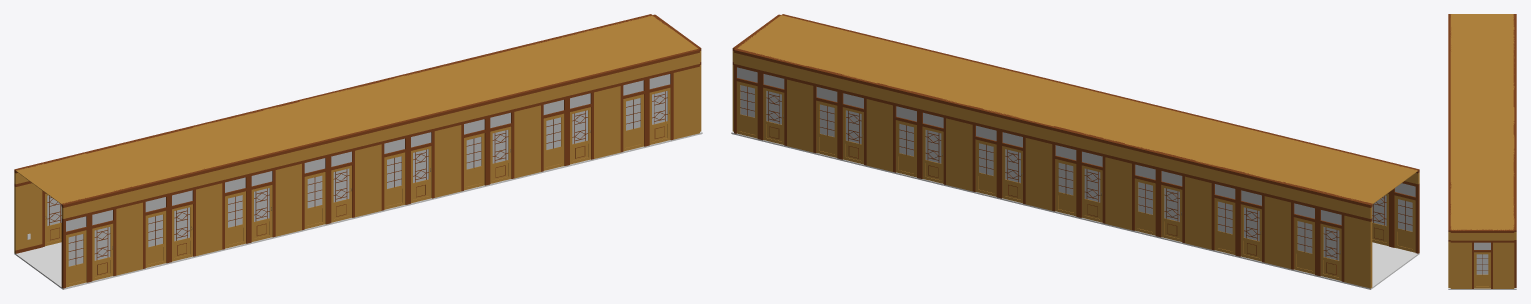
The model's file is Hallway.glb.
The picture shows the model from 3 angles, left to right: view 1: azimuth 30°, elevation 25°; view 2: azimuth 150°, elevation 25°; view 3: azimuth 270°, elevation 25°; orthographic projection. The views are drawn at different scales.
Visible parts, largest first — view 1: Ceiling, Ceiling.002, Ceiling.003, Ceiling.005, Ceiling.001, Ceiling.004, Floor, Wall_1X_Window.017, Wall_1X.013, Wall_1X_Door.016, Wall_1X_Window.013, Wall_1X.001 (+27 smaller); view 2: Ceiling.003, Ceiling, Ceiling.004, Ceiling.001, Ceiling.002, Ceiling.005, Floor, Wall_1X.001, Wall_1X.005, Wall_1X_Door.001, Wall_1X_Window.005, Wall_1X_Window.017 (+45 smaller); view 3: Ceiling.003, Ceiling.002, Ceiling, Ceiling.005, Ceiling.001, Ceiling.004, Wall_1X.009, Wall_1X.018, Wall_1X_Window.009, Wall_1X.070, Wall_1X.068, Wall_1X.069 (+4 smaller).
Part boxes in pixels (<box>): Ceiling: <box>16,144,167,203</box>; Ceiling.002: <box>229,93,379,152</box>; Ceiling.003: <box>334,67,485,126</box>; Ceiling.005: <box>547,15,698,74</box>; Ceiling.001: <box>122,119,273,177</box>; Ceiling.004: <box>441,41,591,100</box>; Floor: <box>14,131,702,289</box>; Wall_1X_Window.017: <box>61,213,89,288</box>; Wall_1X.013: <box>434,122,461,197</box>; Wall_1X_Door.016: <box>89,206,116,281</box>; Wall_1X_Window.013: <box>381,135,408,210</box>; Wall_1X.001: <box>14,181,42,253</box>; Ceiling.003: <box>948,67,1099,126</box>; Ceiling: <box>1266,144,1417,204</box>; Ceiling.004: <box>842,41,992,100</box>; Ceiling.001: <box>1161,119,1311,177</box>; Ceiling.002: <box>1055,93,1205,151</box>; Ceiling.005: <box>737,15,886,73</box>; Floor: <box>731,131,1419,289</box>; Wall_1X.001: <box>1344,213,1372,288</box>; Wall_1X.005: <box>1025,135,1052,210</box>; Wall_1X_Door.001: <box>1317,206,1344,281</box>; Wall_1X_Window.005: <box>972,122,999,197</box>; Wall_1X_Window.017: <box>1391,181,1419,253</box>; Ceiling.003: <box>1450,122,1514,157</box>; Ceiling.002: <box>1450,86,1514,121</box>; Ceiling: <box>1450,14,1514,49</box>; Ceiling.005: <box>1450,194,1514,230</box>; Ceiling.001: <box>1450,50,1514,85</box>; Ceiling.004: <box>1450,158,1514,193</box>; Wall_1X.009: <box>1493,240,1514,288</box>; Wall_1X.018: <box>1450,240,1471,288</box>; Wall_1X_Window.009: <box>1472,240,1492,288</box>; Wall_1X.070: <box>1450,229,1471,240</box>; Wall_1X.068: <box>1493,229,1514,240</box>; Wall_1X.069: <box>1472,229,1492,240</box>.
Bounding box in the file's own units: 24.1 × 3.05 × 3.21.
